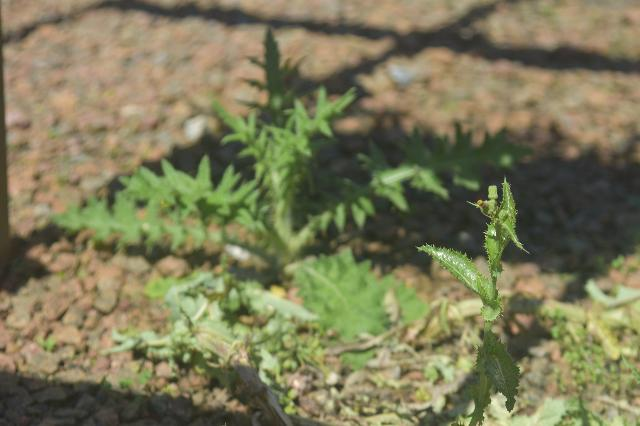MalezaMontesDelPlata: (222, 26, 374, 279), (111, 263, 314, 426), (410, 168, 538, 426), (41, 154, 223, 262), (529, 298, 626, 426)
